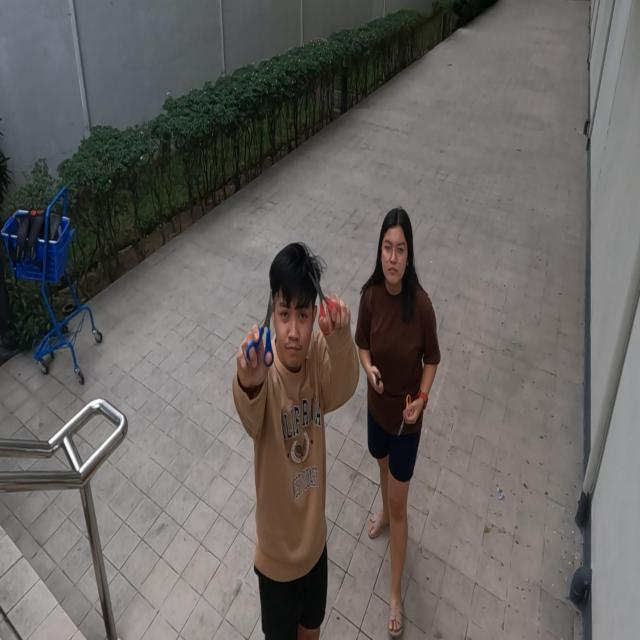scissor: (245, 288, 279, 368), (308, 266, 342, 336), (398, 394, 413, 438)
